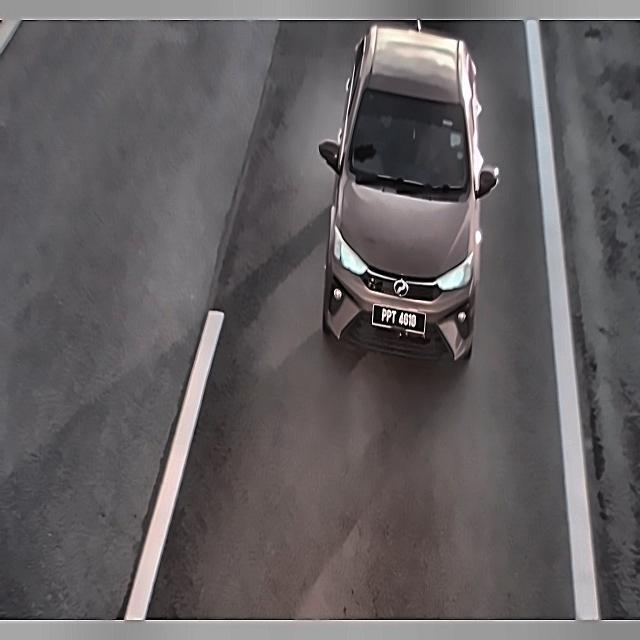car: (369, 300, 431, 341)
